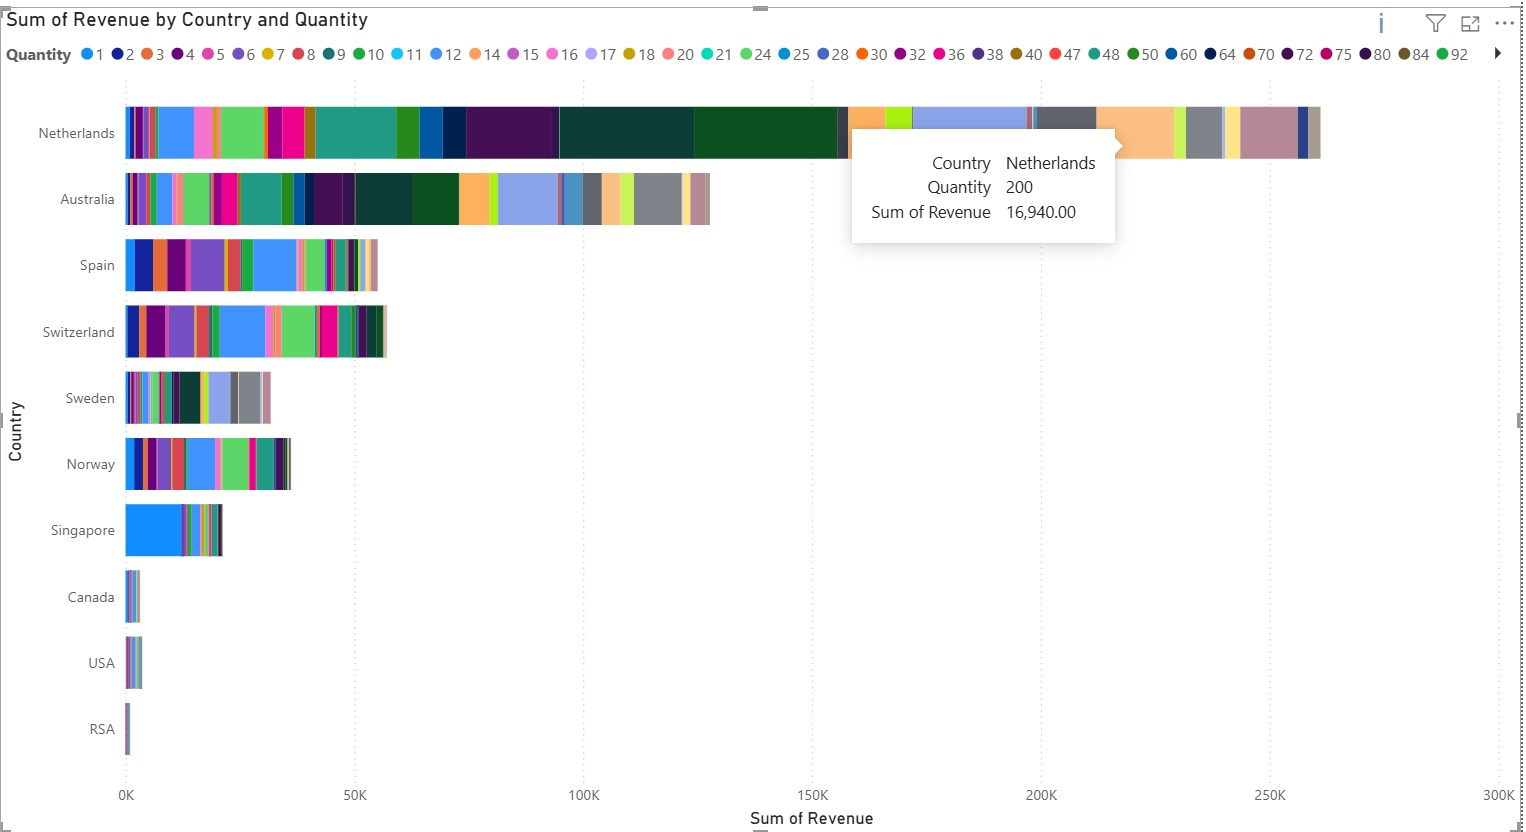

The dashboard page shown, as its layout file describes it:
{"tool":"powerbi","page":{"name":"Q2","canvas":[1280,720],"ordinal":1},"visuals":[{"type":"barChart","fields":{"Category":["Online Retail.Country"],"Y":["Sum(Online Retail.Revenue)"],"Series":["Online Retail.Quantity"]},"box":[0,25.2,1279.6,695],"z":0}]}

Visuals, with their boxes on the page's 1280x720 design canvas (x1, y1, x2, y2). These are canvas units, not pixel positions in the 1526x832 screenshot, which may show the page scaled, cropped or inside an application window:
barChart - Online Retail.Country x Sum(Online Retail.Revenue): detection(0, 25, 1280, 720)
